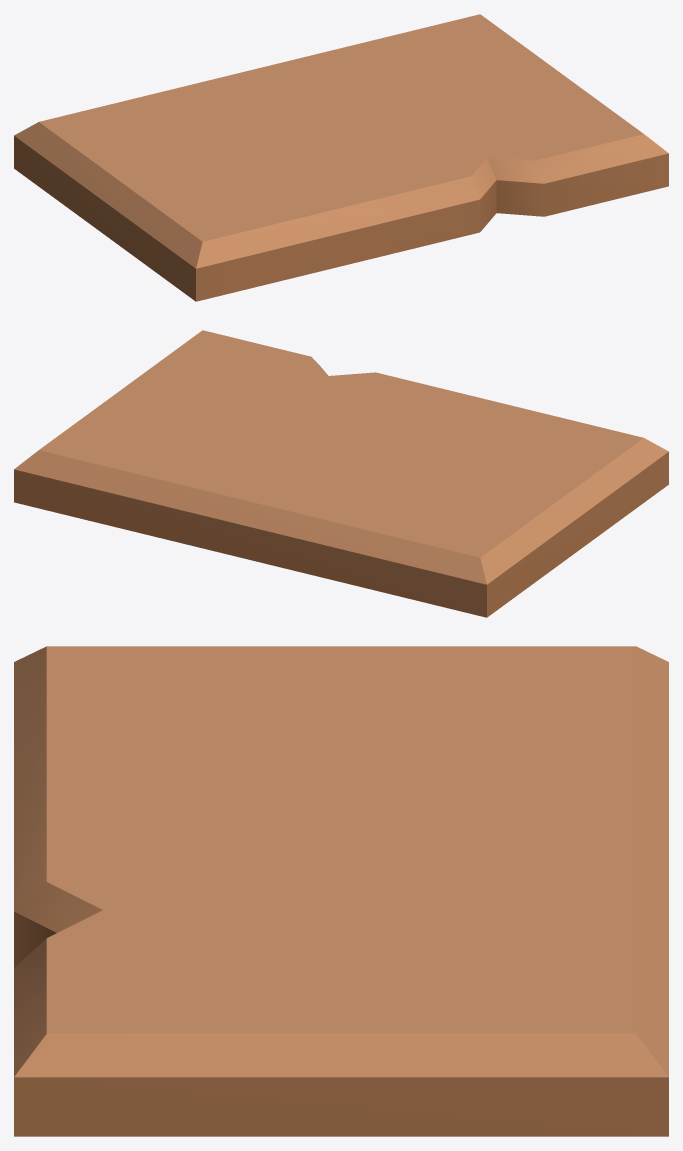
File: kaykit_restaurant_cuttingboard.glb
The picture shows the model from 3 angles, top to bottom: view 1: azimuth 30°, elevation 25°; view 2: azimuth 150°, elevation 25°; view 3: azimuth 270°, elevation 25°; orthographic projection. The views are drawn at different scales.
Parts seen in each view (by area): view 1: wood; view 2: wood; view 3: wood.
Part boxes in pixels (bbox=[...]): wood: bbox=[14, 14, 668, 301]; wood: bbox=[14, 330, 668, 617]; wood: bbox=[14, 646, 668, 1136].
Size of the model in its own units: 1.5 by 0.15 by 1.
